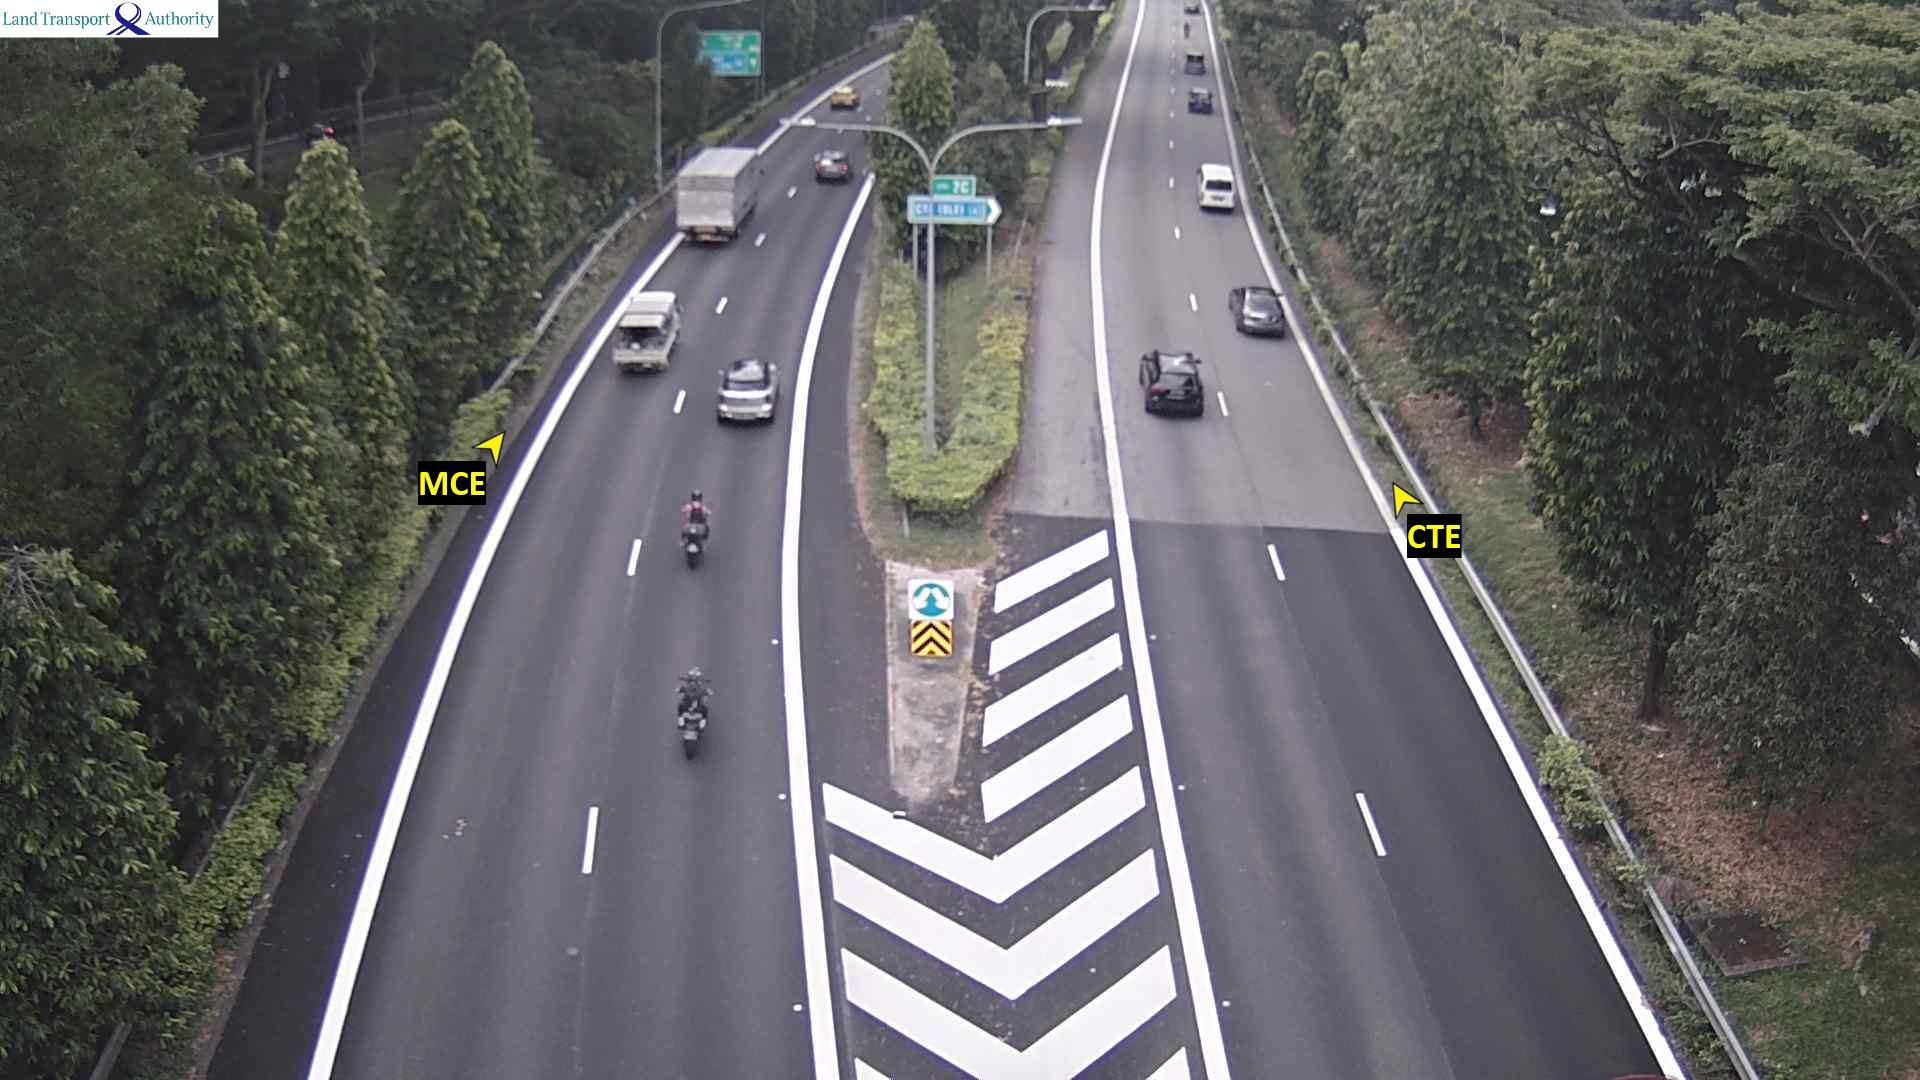cars: (610, 289, 681, 374), (1138, 348, 1204, 416), (714, 356, 779, 424), (1227, 284, 1285, 337), (678, 489, 711, 565), (1196, 162, 1236, 211), (812, 147, 850, 182), (829, 84, 860, 109), (1187, 86, 1213, 113), (1183, 51, 1205, 74), (1183, 0, 1200, 13)
motorcycle: (674, 666, 713, 758), (1182, 22, 1192, 39)
trucks: (674, 145, 760, 243)
